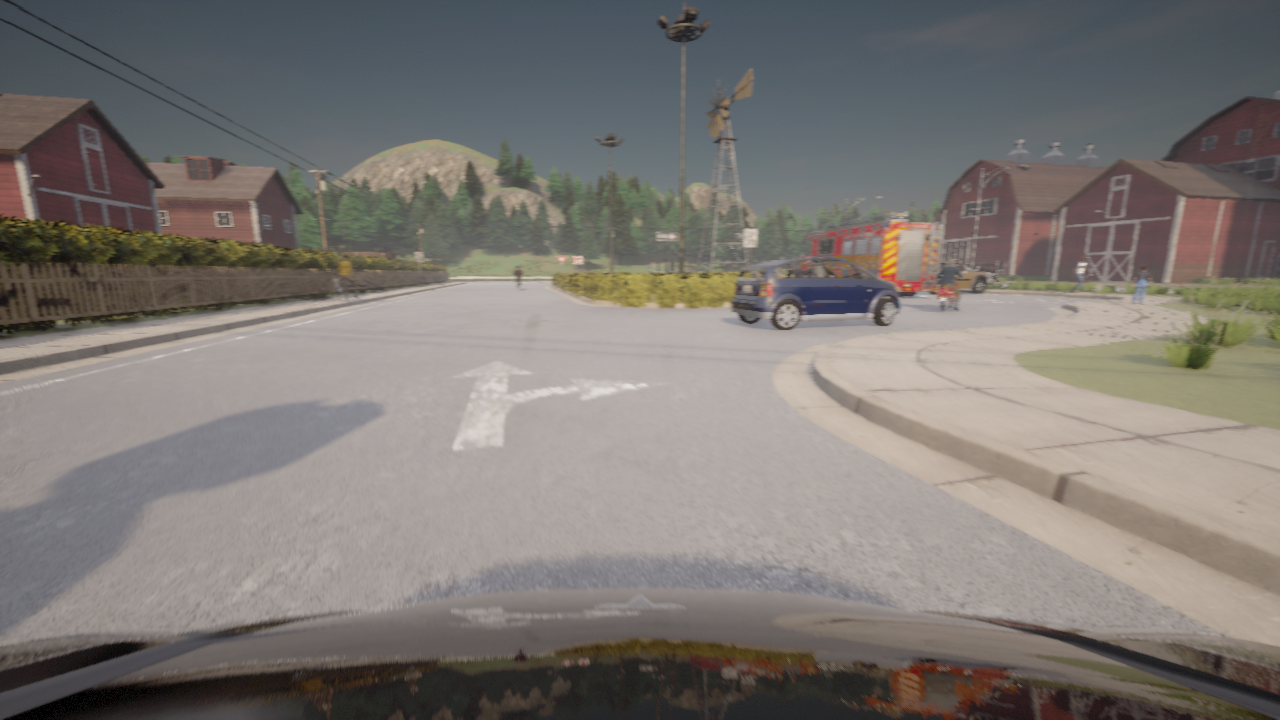cyclist: (0, 588, 1279, 719), (731, 256, 900, 330), (799, 212, 942, 296), (925, 259, 990, 294), (935, 270, 966, 310), (965, 263, 998, 283), (684, 269, 700, 272), (517, 281, 518, 290), (602, 271, 606, 272)
pedestrian: (338, 254, 358, 300), (1070, 255, 1091, 293), (1132, 265, 1150, 304), (331, 273, 343, 298)
